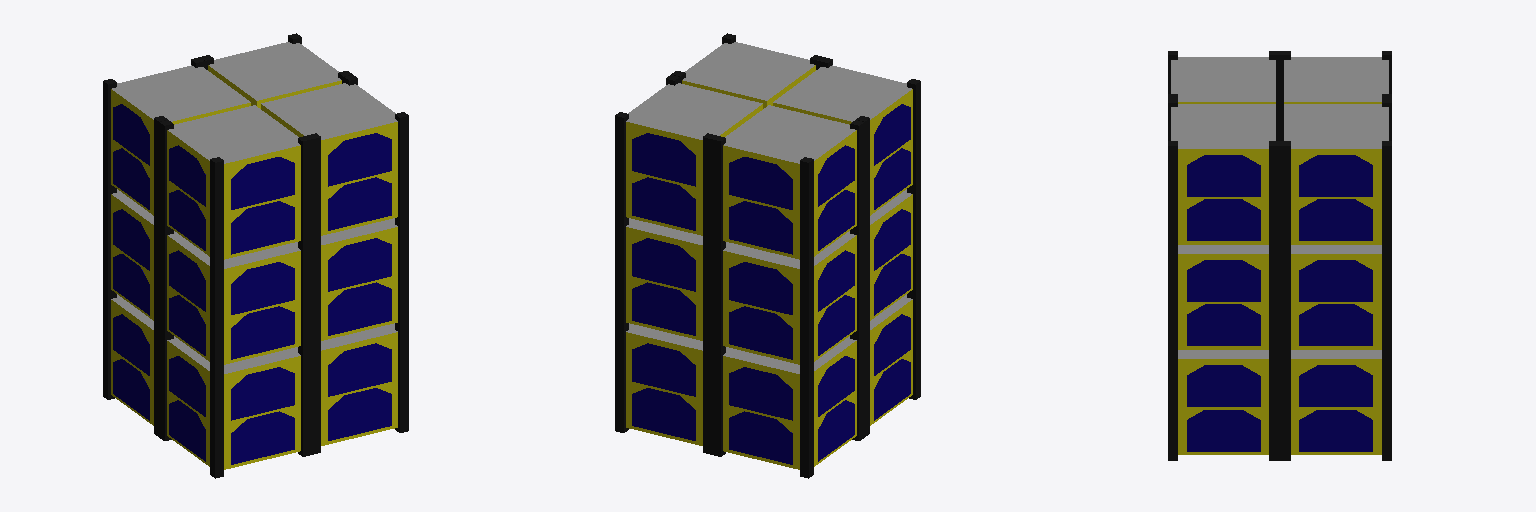
The picture shows the model from 3 angles: view 1: azimuth 30°, elevation 25°; view 2: azimuth 150°, elevation 25°; view 3: azimuth 270°, elevation 25°; orthographic projection.
Parts seen in each view (by area): view 1: CubeSat.001, CubeSat.004, CubeSat.010, CubeSat.007, CubeSat.002, CubeSat, CubeSat.005, CubeSat.003, SolarPanel.029, SolarPanel.010, SolarPanel.019, SolarPanel.037 (+28 smaller); view 2: CubeSat.010, CubeSat.007, CubeSat.001, CubeSat.004, CubeSat.009, CubeSat.011, CubeSat.006, CubeSat.008, SolarPanel.069, SolarPanel.061, SolarPanel.075, SolarPanel.082 (+28 smaller); view 3: CubeSat.004, CubeSat.007, CubeSat.001, CubeSat.010, CubeSat.008, CubeSat.003, CubeSat.005, CubeSat.006, SolarPanel.041, SolarPanel.054, SolarPanel.032, SolarPanel.063 (+20 smaller).
Part boxes in pixels (bbox=[...]): CubeSat.001: bbox=[167, 105, 300, 259]; CubeSat.004: bbox=[261, 83, 397, 235]; CubeSat.010: bbox=[111, 65, 250, 215]; CubeSat.007: bbox=[208, 42, 341, 108]; CubeSat.002: bbox=[167, 336, 300, 469]; CubeSat: bbox=[167, 231, 300, 364]; CubeSat.005: bbox=[321, 323, 397, 445]; CubeSat.003: bbox=[321, 218, 397, 340]; SolarPanel.029: bbox=[328, 238, 391, 291]; SolarPanel.010: bbox=[231, 201, 294, 254]; SolarPanel.019: bbox=[231, 367, 294, 420]; SolarPanel.037: bbox=[328, 177, 391, 230]; CubeSat.010: bbox=[723, 105, 856, 259]; CubeSat.007: bbox=[626, 83, 762, 235]; CubeSat.001: bbox=[773, 65, 912, 215]; CubeSat.004: bbox=[682, 42, 815, 108]; CubeSat.009: bbox=[723, 336, 856, 469]; CubeSat.011: bbox=[723, 231, 856, 364]; CubeSat.006: bbox=[626, 323, 702, 445]; CubeSat.008: bbox=[626, 218, 702, 340]; SolarPanel.069: bbox=[632, 238, 695, 291]; SolarPanel.061: bbox=[632, 177, 695, 230]; SolarPanel.075: bbox=[729, 367, 792, 420]; SolarPanel.082: bbox=[729, 201, 792, 254]; CubeSat.004: bbox=[1171, 104, 1275, 244]; CubeSat.007: bbox=[1284, 104, 1388, 244]; CubeSat.001: bbox=[1171, 57, 1275, 103]; CubeSat.010: bbox=[1284, 57, 1388, 103]; CubeSat.008: bbox=[1291, 245, 1381, 349]; CubeSat.003: bbox=[1178, 245, 1268, 349]; CubeSat.005: bbox=[1178, 350, 1268, 454]; CubeSat.006: bbox=[1291, 350, 1381, 454]; SolarPanel.041: bbox=[1187, 410, 1260, 451]; SolarPanel.054: bbox=[1299, 410, 1372, 451]; SolarPanel.032: bbox=[1187, 155, 1260, 196]; SolarPanel.063: bbox=[1299, 155, 1372, 196].
Bounding box in the file's own units: 0.2122 × 0.33 × 0.2129.